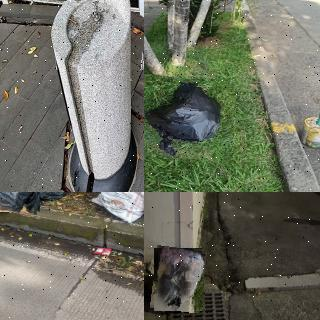Garbage: (144, 77, 235, 162), (152, 247, 206, 312), (87, 192, 144, 222), (0, 192, 41, 213), (24, 192, 75, 202)
